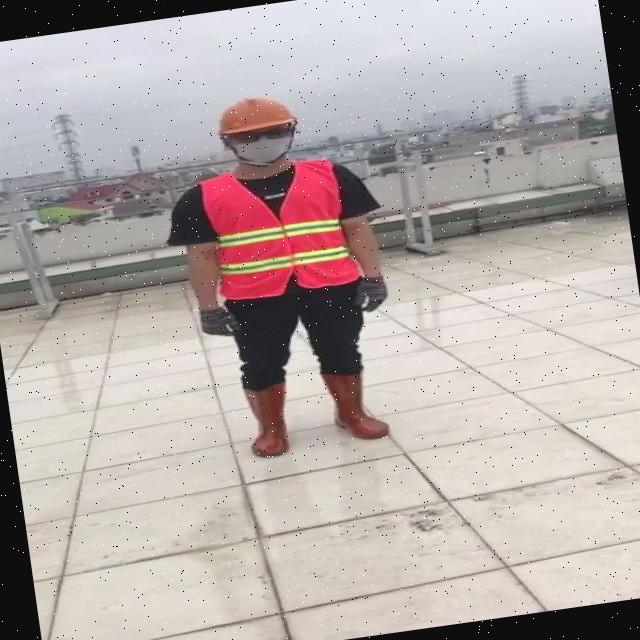boots: (321, 367, 390, 446), (240, 382, 294, 461)
